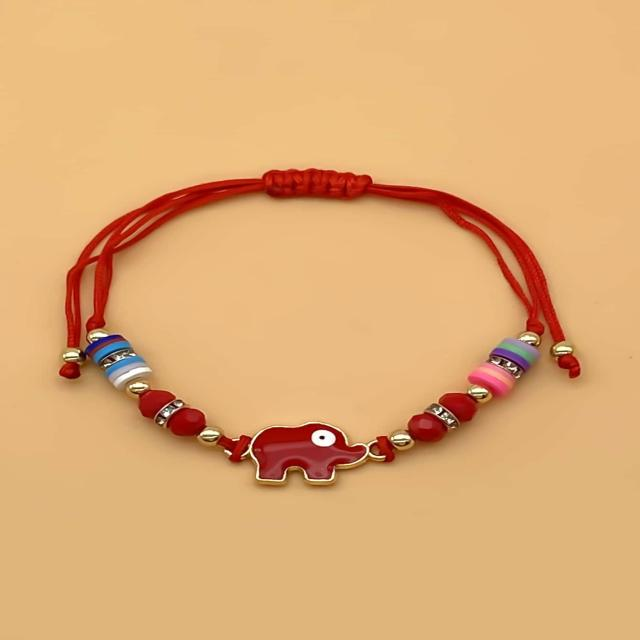bracelet: (12, 111, 630, 560)
